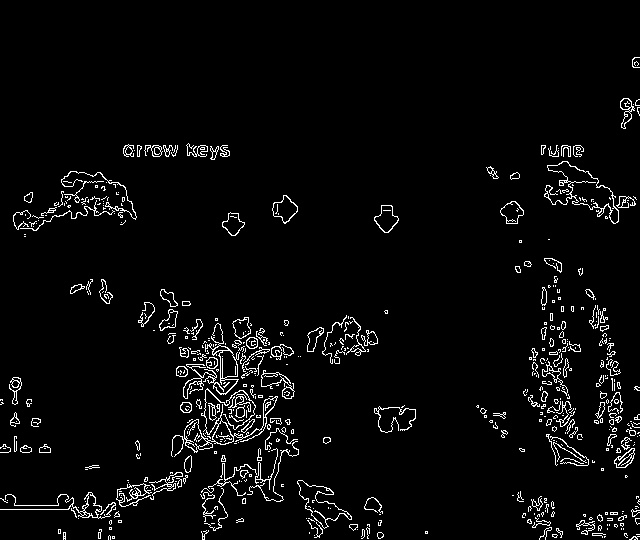down: (367, 199, 405, 239), (218, 208, 249, 240)
right: (266, 191, 305, 228)
up: (493, 193, 533, 233)
